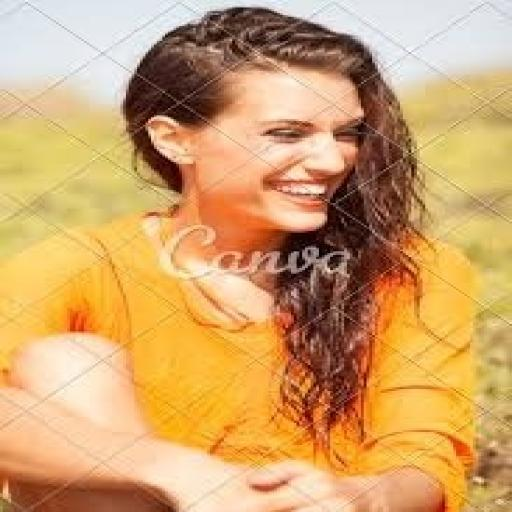laughing: (0, 2, 487, 510)
